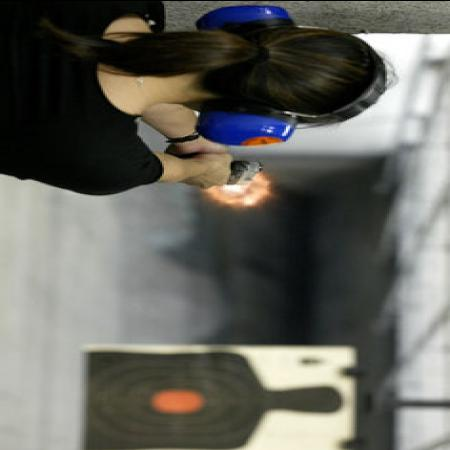Pistol: (183, 153, 267, 192)
